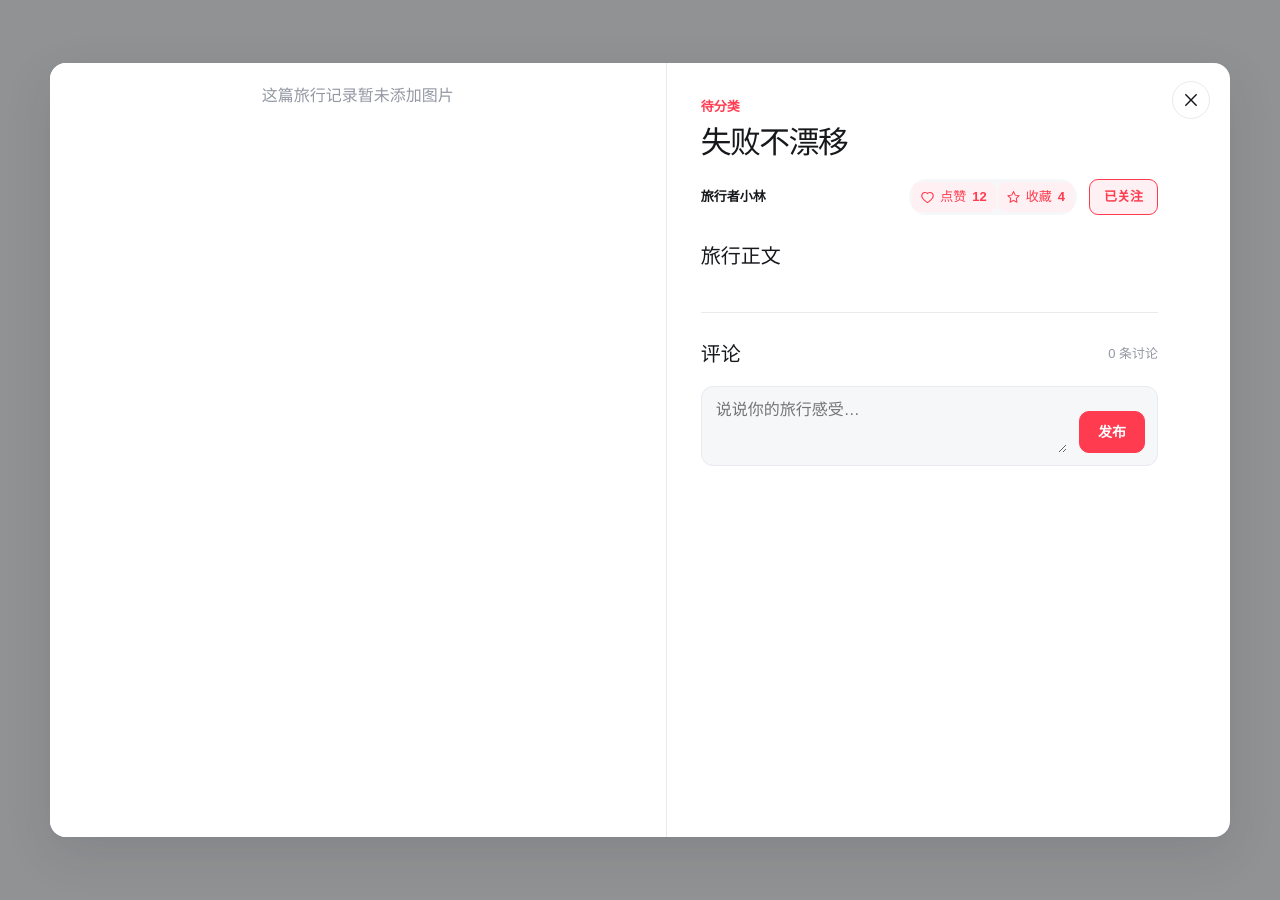
帖子详情 › 关注作者 写入失败时保留服务端读取状态且展示局部错误
Click the button with aria-label "关注作者": (1124,197) x1=1089 y1=179 x2=1158 y2=215
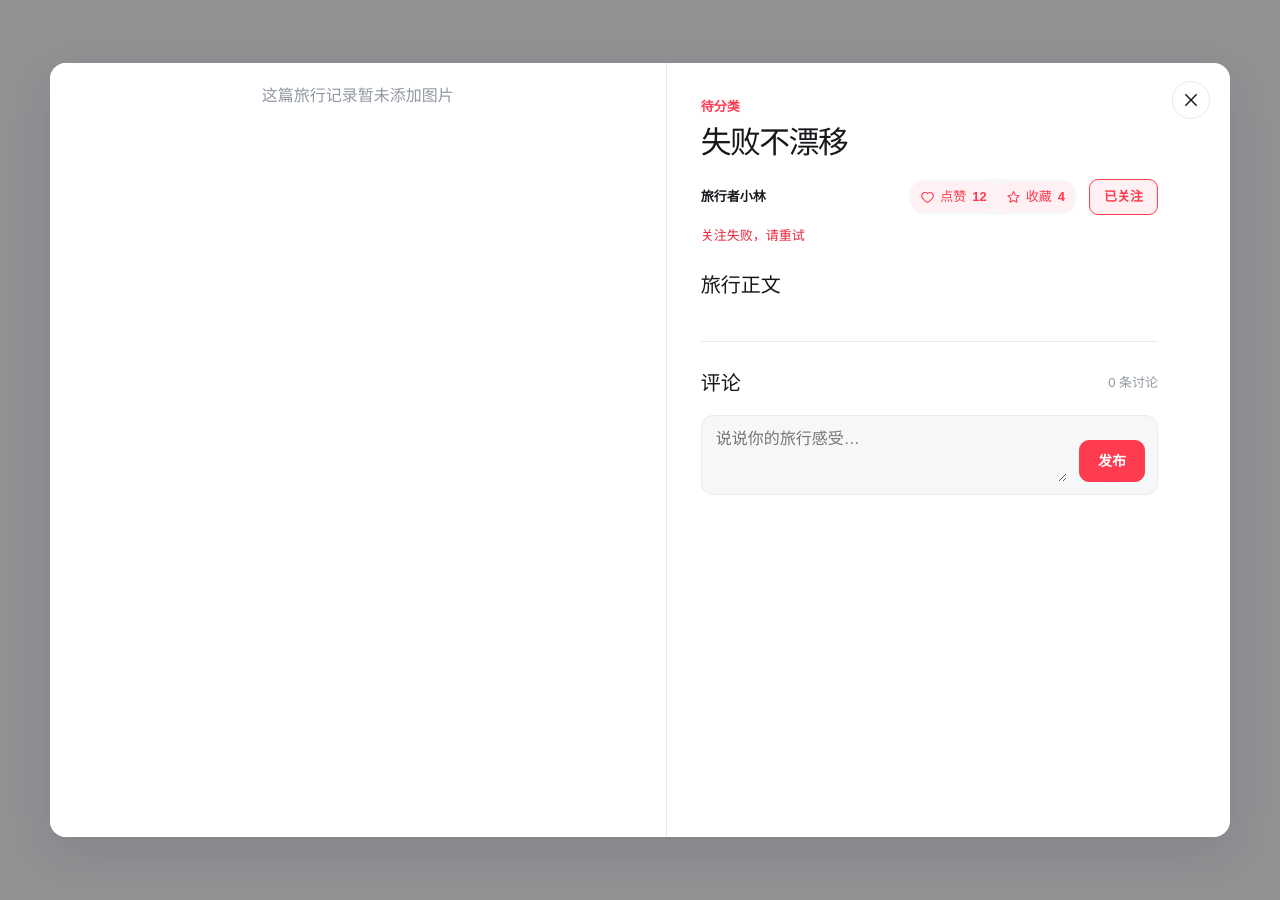
Check: the message "关注失败，请重试" is shown, box x1=701 y1=228 x2=805 y2=243
